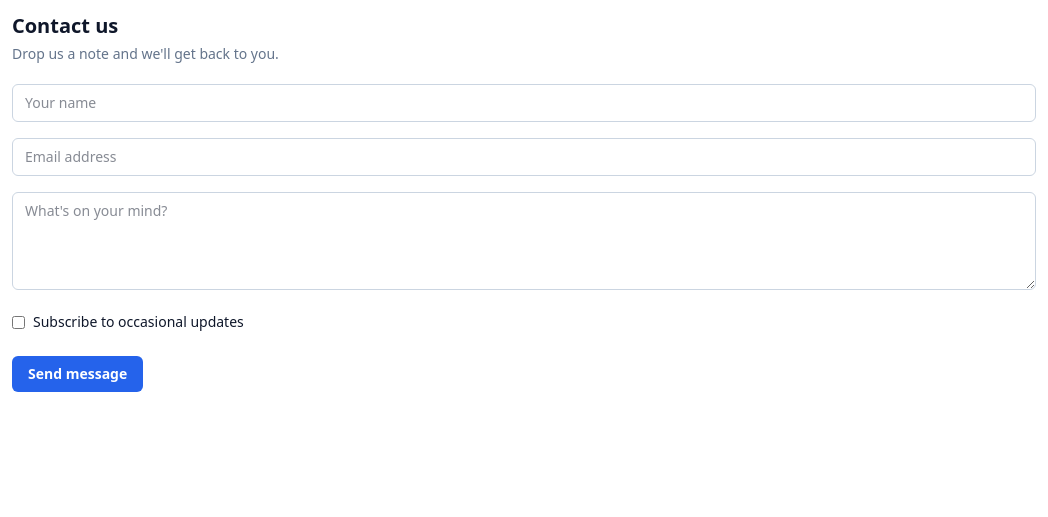
BrokenContactForm (failure modes are intentional) › does not announce errors or invalid state programmatically
The image size is (1048, 517).
Note: Click the div to attempt submit on empty fields.
Click the text with test id "broken-submit" at (78, 374), box [12,356,143,392]
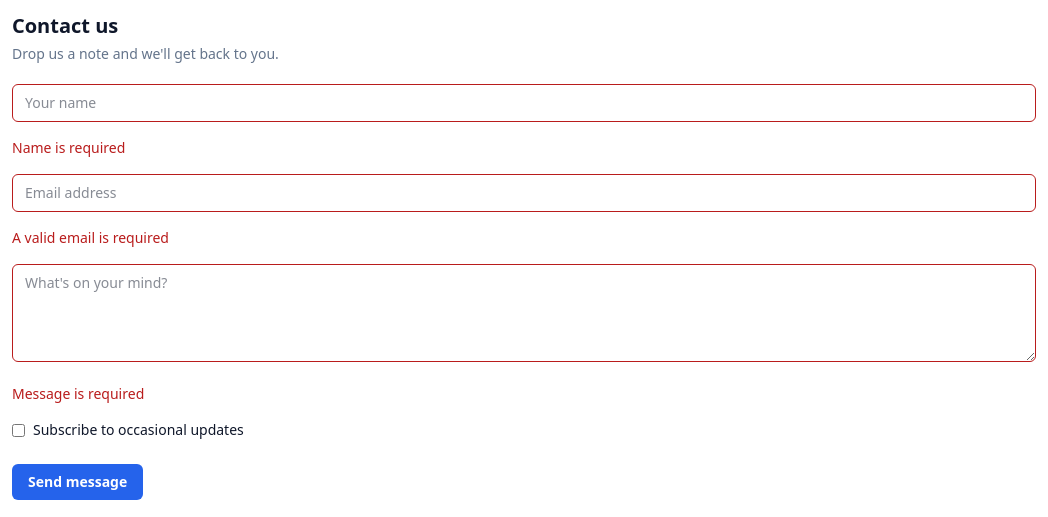
Check: the text "Name is required" is shown, box [12,138,125,157]
